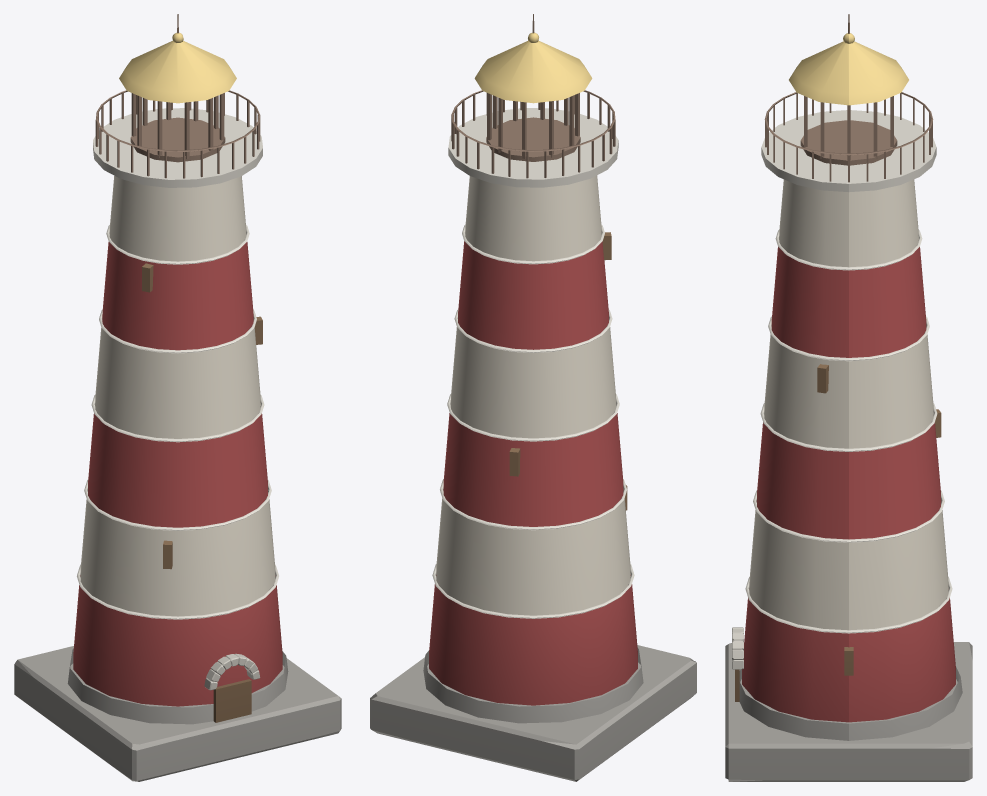
Rendered from leuchtturm.glb.
The picture shows the model from 3 angles, left to right: view 1: azimuth 30°, elevation 25°; view 2: azimuth 150°, elevation 25°; view 3: azimuth 270°, elevation 25°; orthographic projection. The views are drawn at different scales.
Parts seen in each view (by area): view 1: G_leuchtturm; view 2: G_leuchtturm; view 3: G_leuchtturm.
Boxes of the visible parts, x1=… form: G_leuchtturm: x1=14, y1=14, x2=341, y2=781; G_leuchtturm: x1=370, y1=14, x2=696, y2=781; G_leuchtturm: x1=725, y1=14, x2=972, y2=781.
Bounding box in the file's own units: 8.2 × 26.2 × 8.2.
